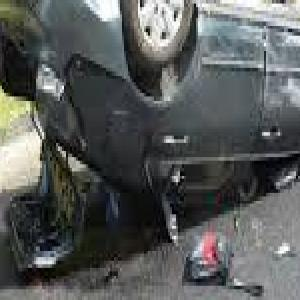severe: (0, 0, 300, 279)
